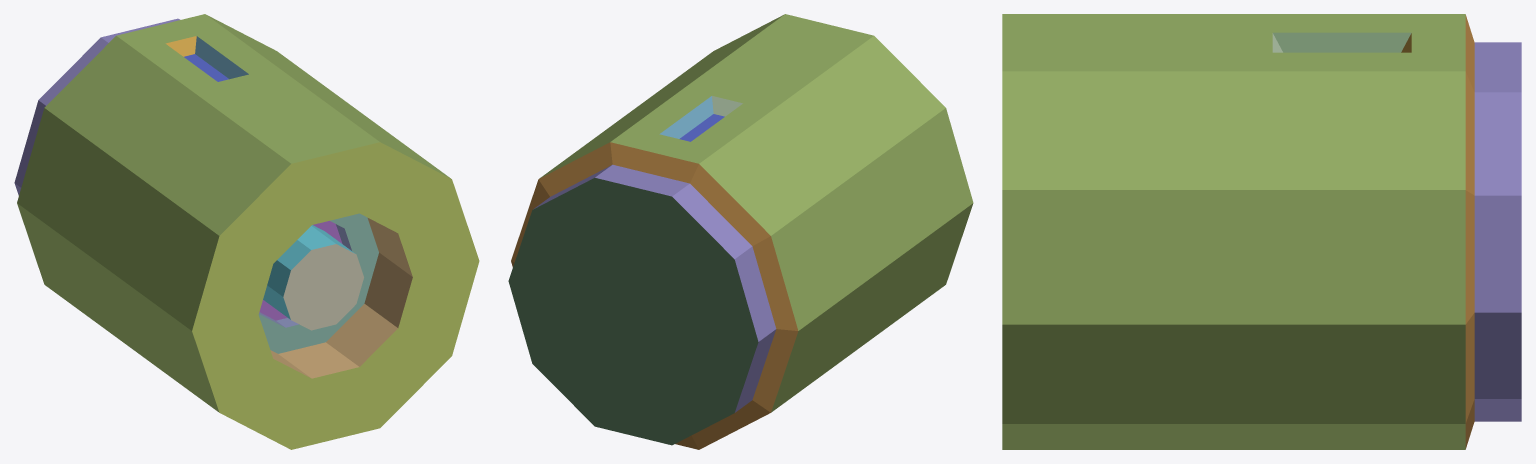
Rendered from module-timeline-02.glb.
The picture shows the model from 3 angles, left to right: view 1: azimuth 30°, elevation 25°; view 2: azimuth 150°, elevation 25°; view 3: azimuth 270°, elevation 25°; orthographic projection. The views are drawn at different scales.
Bounding box in the file's own units: 0.42 × 0.3994 × 0.4966.
